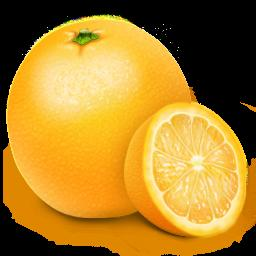Orange Fresh: (0, 16, 236, 237)
